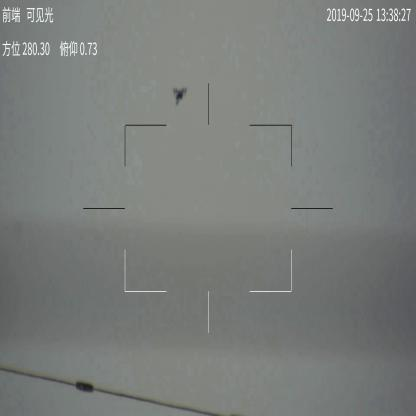uav: (171, 85, 188, 109)
